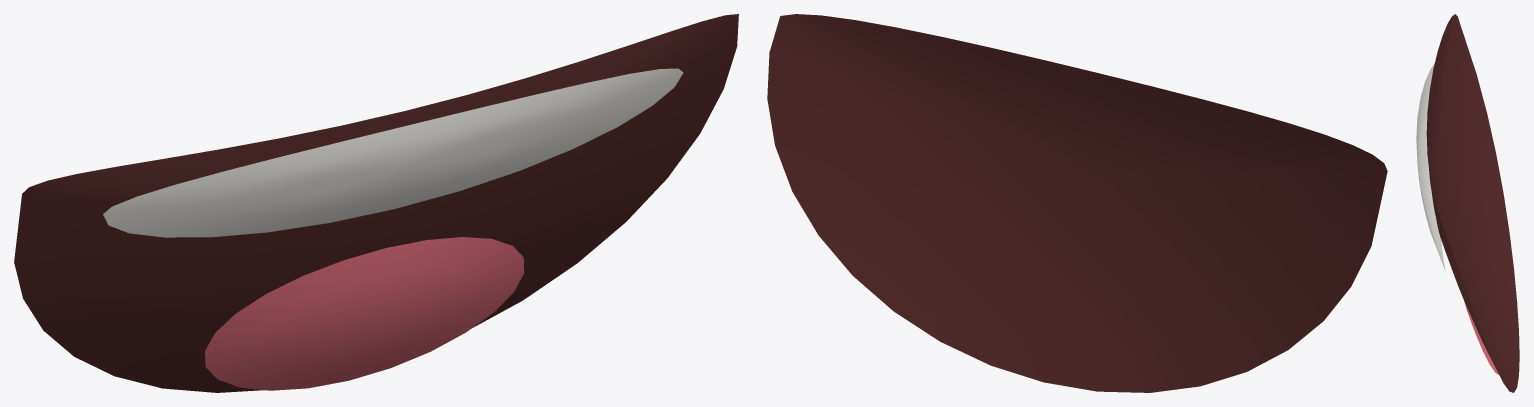
Rendered from char_mouth_grin.glb.
3 views of the same model, side by side, from view 1: azimuth 30°, elevation 25°; view 2: azimuth 150°, elevation 25°; view 3: azimuth 270°, elevation 25° (orthographic). The views are drawn at different scales.
Visible parts, largest first — view 1: char_mouth_grin; view 2: char_mouth_grin; view 3: char_mouth_grin.
Boxes of the visible parts, bbox=[...] form: char_mouth_grin: bbox=[14, 14, 738, 392]; char_mouth_grin: bbox=[767, 14, 1387, 392]; char_mouth_grin: bbox=[1416, 14, 1519, 392].
Size of the model in its own units: 0.1006 by 0.0425 by 0.0176.
